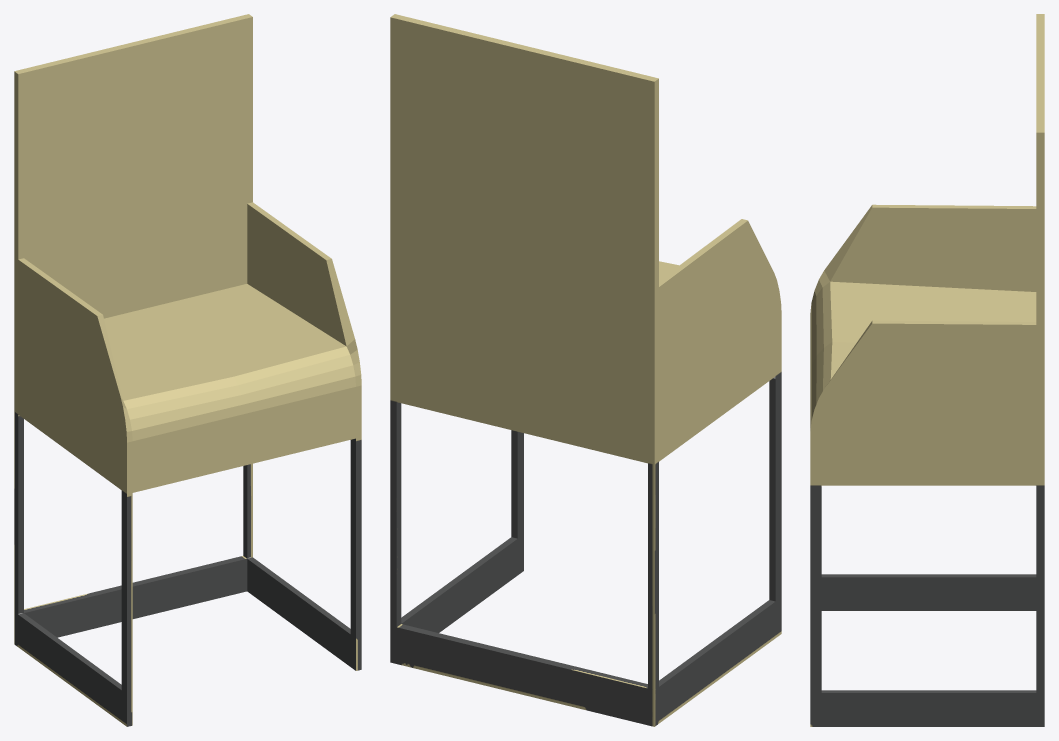
The model's file is chair.fbx.
The picture shows the model from 3 angles, left to right: view 1: azimuth 30°, elevation 25°; view 2: azimuth 150°, elevation 25°; view 3: azimuth 270°, elevation 25°; orthographic projection. The views are drawn at different scales.
Visible parts, largest first — view 1: Chair; view 2: Chair; view 3: Chair.
Part boxes in pixels (x1=…): Chair: x1=14, y1=14, x2=361, y2=726; Chair: x1=390, y1=14, x2=781, y2=726; Chair: x1=810, y1=14, x2=1044, y2=726.
Bounding box in the file's own units: 0.3 × 0.7 × 0.25.
1 material, 1 textured.
